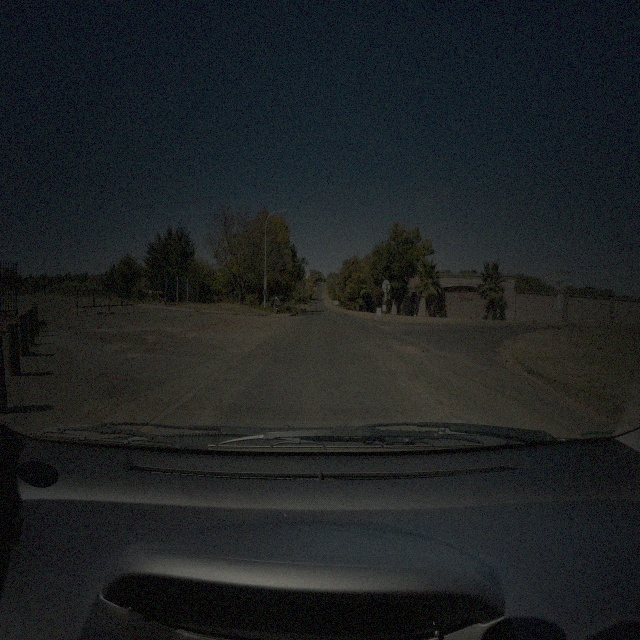pothole: (94, 370, 130, 384), (207, 321, 242, 332), (397, 342, 424, 356), (171, 332, 184, 342)
